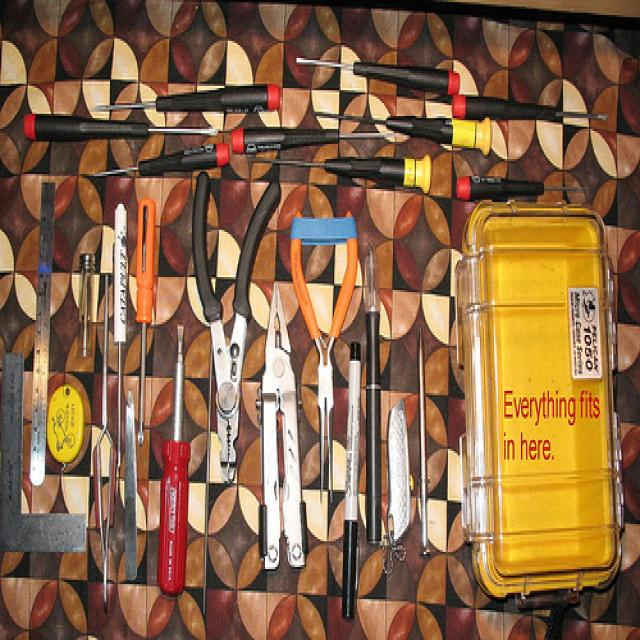screw driver: (284, 24, 468, 104), (17, 88, 218, 152), (123, 176, 166, 460), (91, 68, 277, 133), (155, 314, 191, 600)
